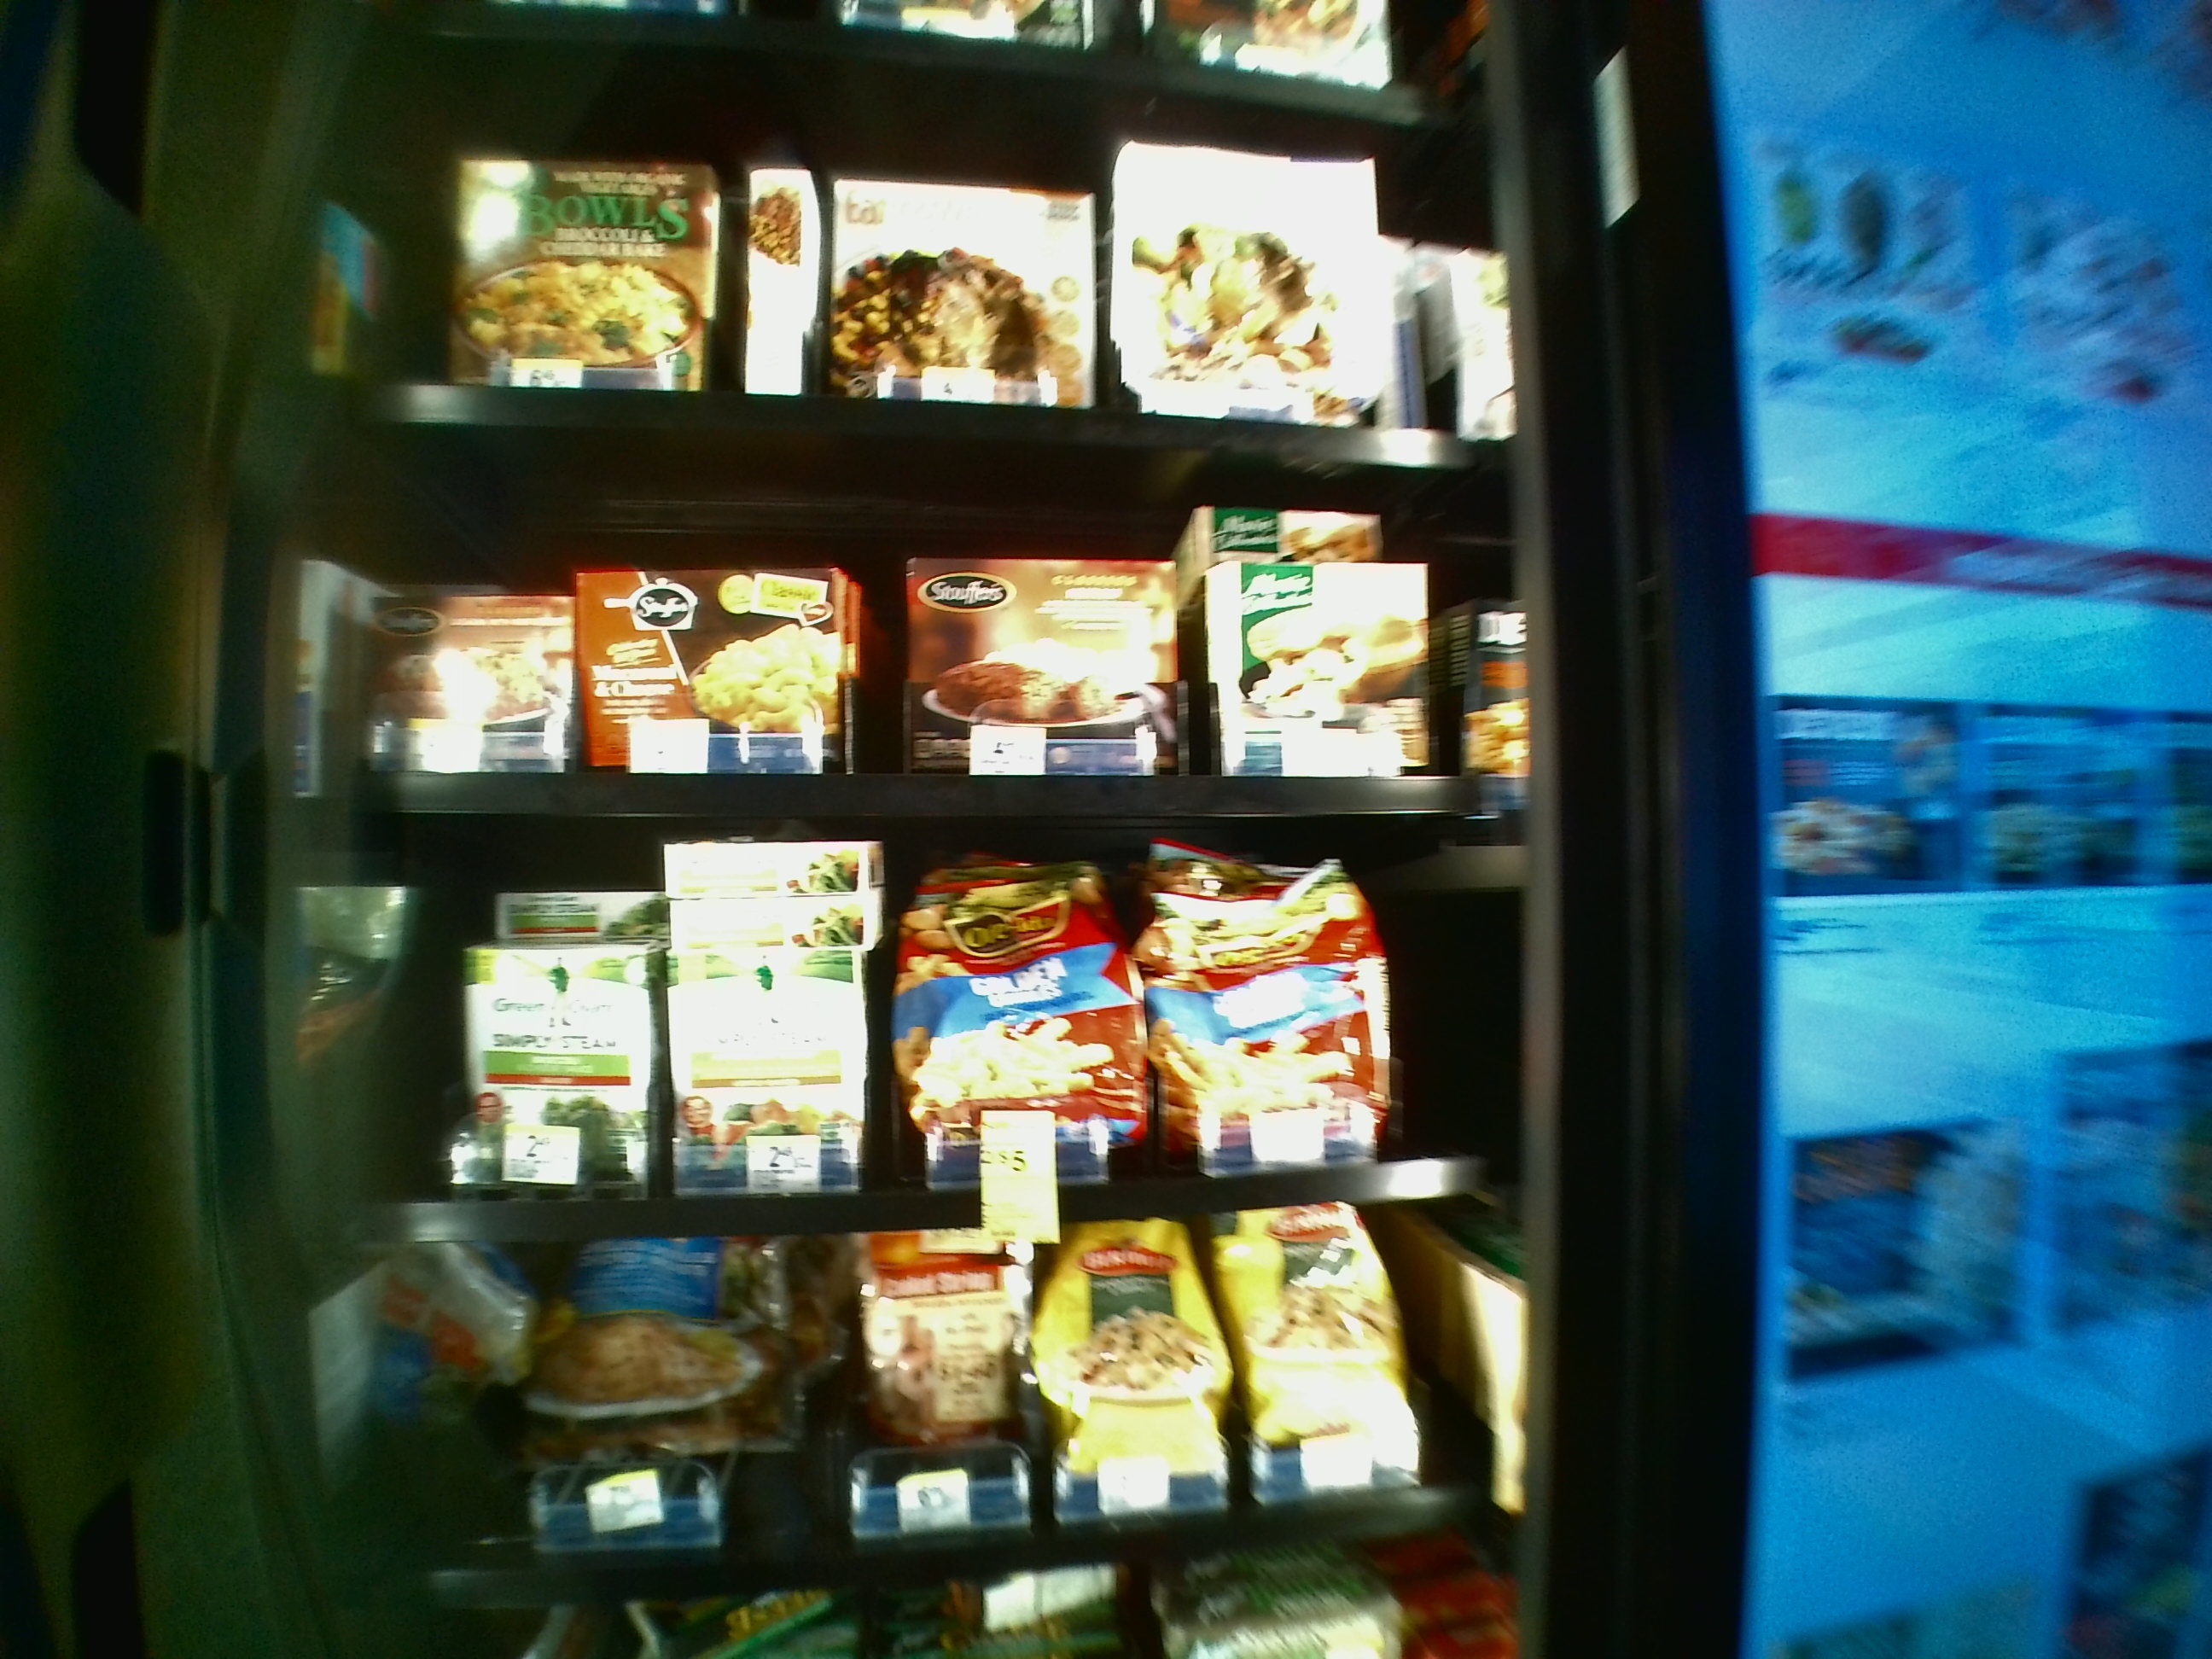shelf: (340, 831, 1521, 1246), (347, 422, 1508, 823)
